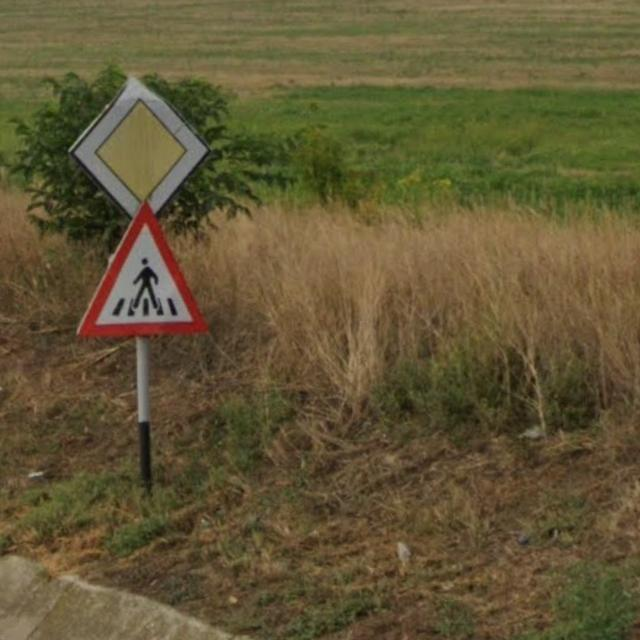warn_crosswalk: (78, 199, 208, 337)
